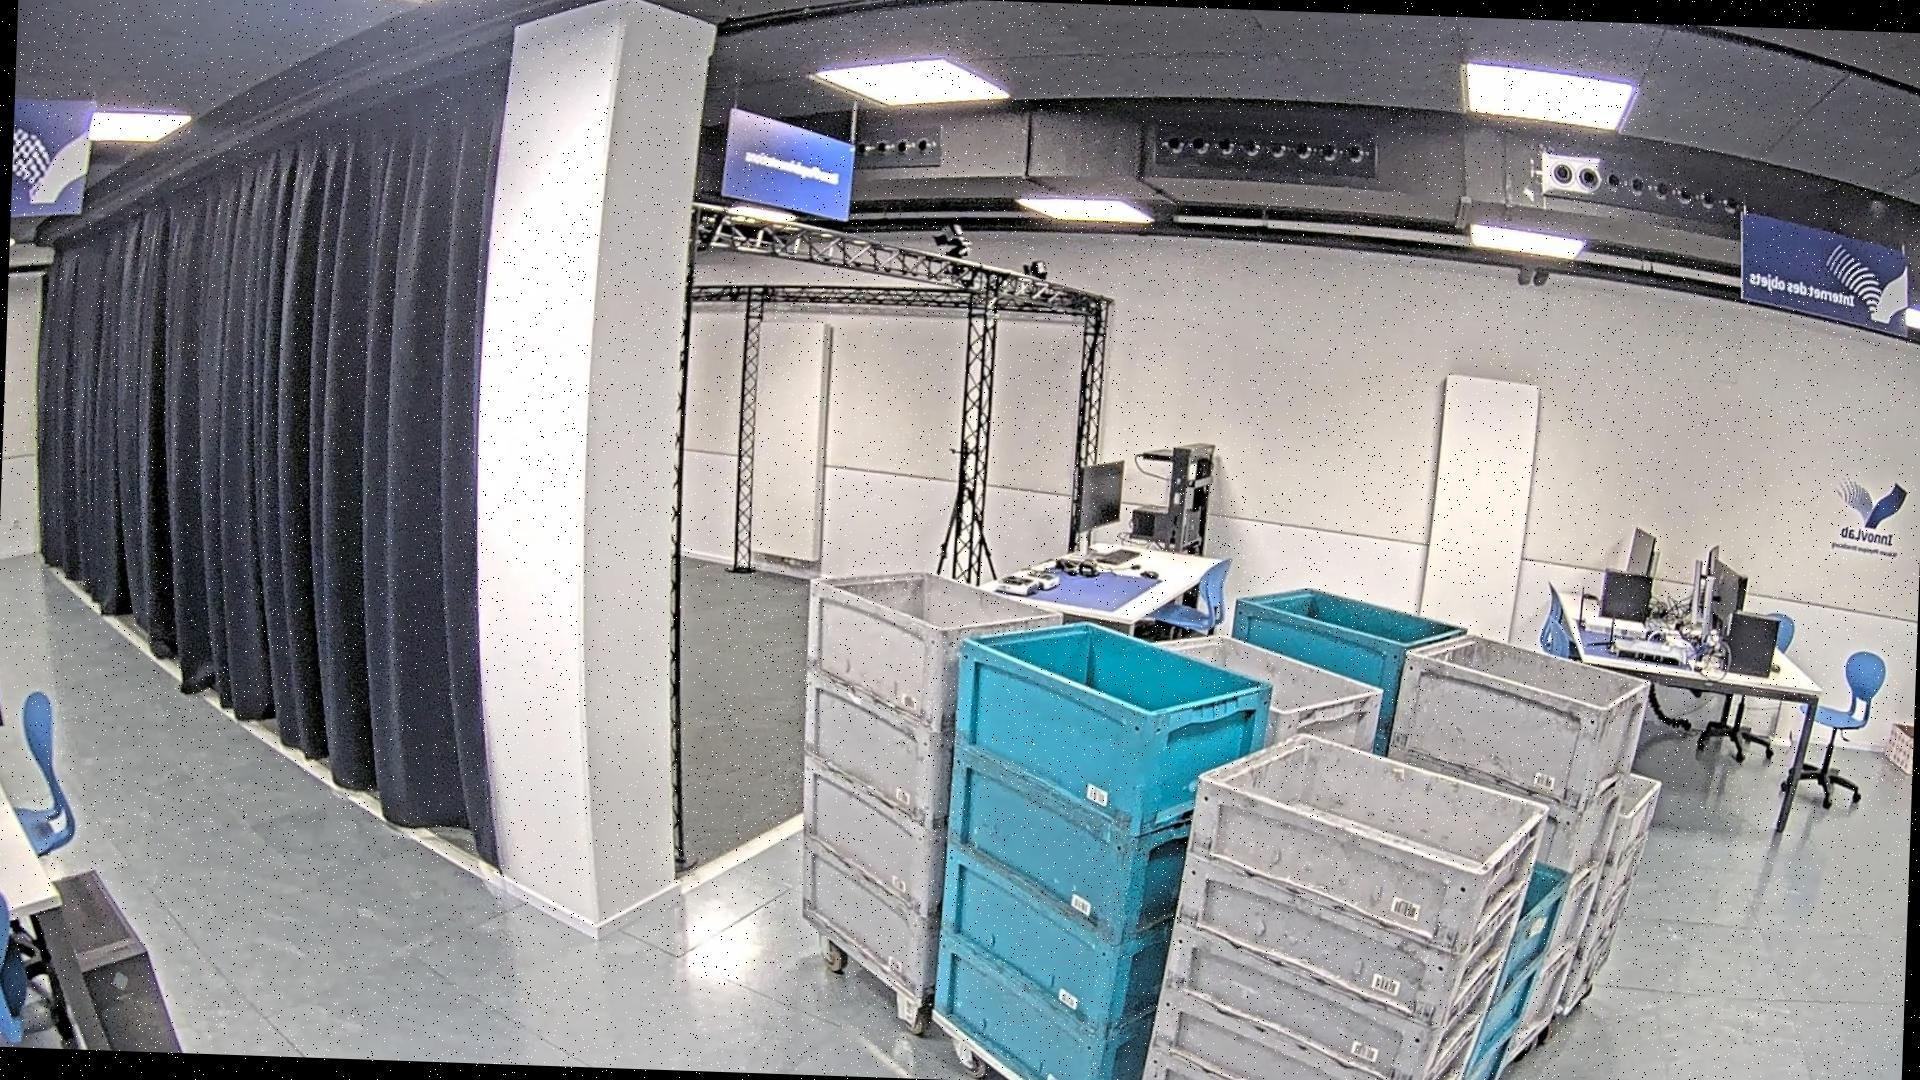Box3G: (1131, 720, 1557, 1080), (1080, 626, 1383, 1076)
Box4G: (789, 556, 1073, 1013), (1205, 578, 1473, 971)
Box8G: (1415, 742, 1662, 1022)
BoxB4: (924, 607, 1279, 1080), (1360, 625, 1655, 1076)
BoxB8: (1261, 822, 1572, 1080)
